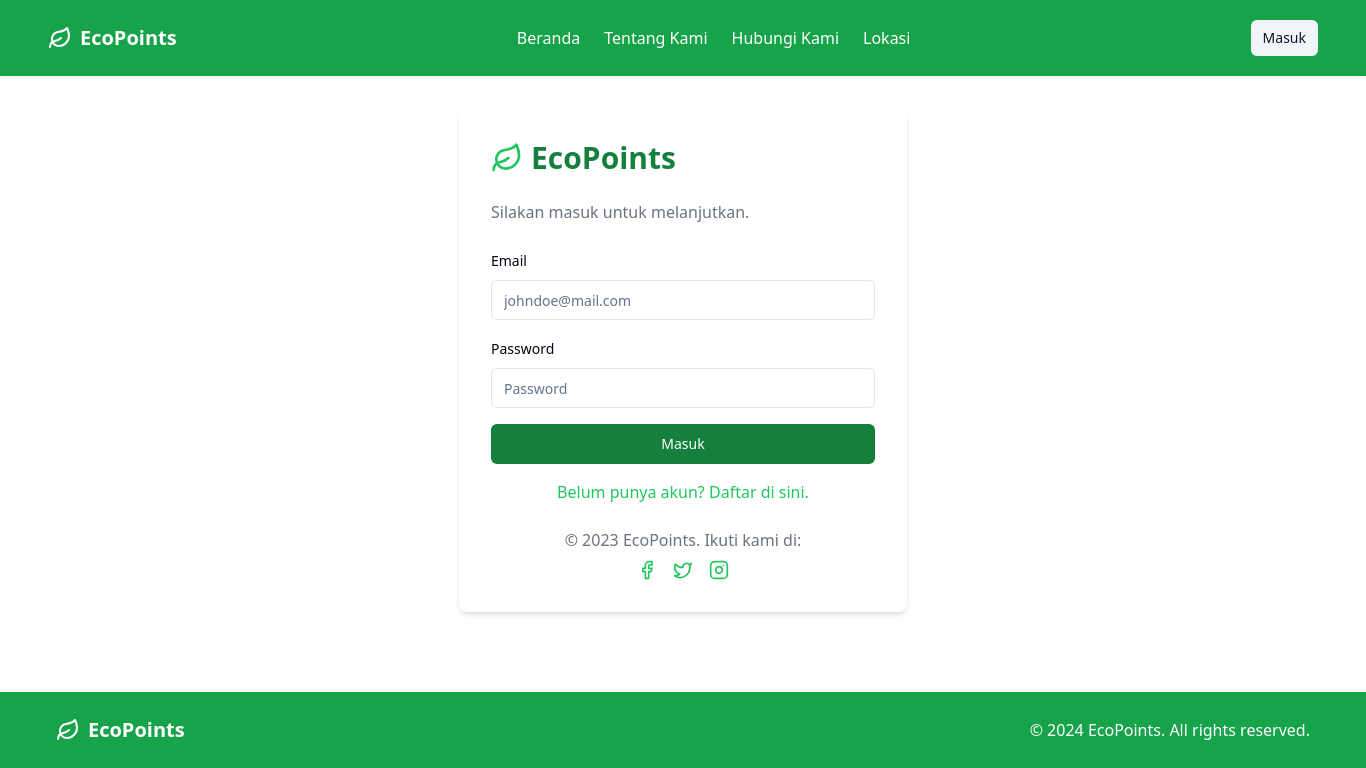
Test case: Login Page › Action for Login page › should display successful toast when using correct credentials
This screenshot has width=1366, height=768.
Type "ardi@gmail.com" into the field with test id "input-email". click: (683, 300)
box: [491, 280, 875, 320]
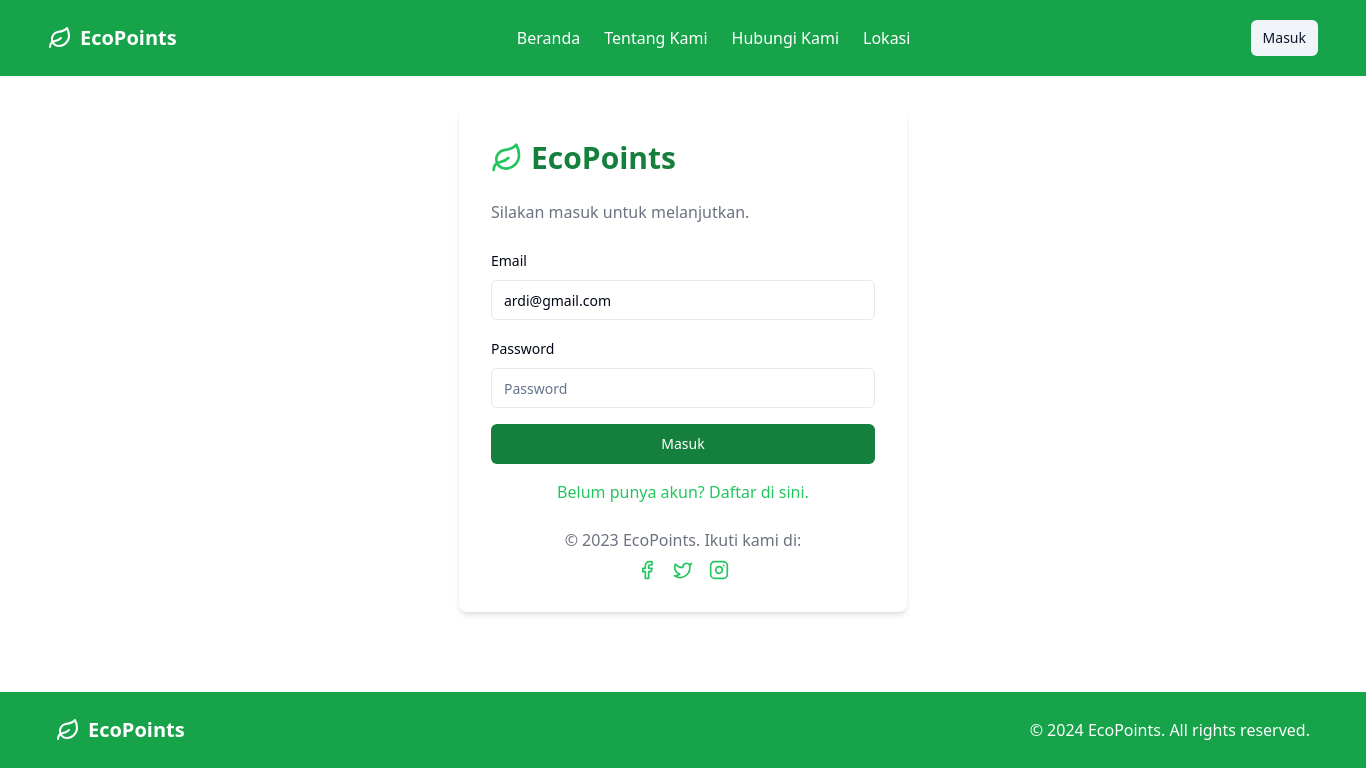
Type "aaaaaa" into the password field with test id "input-password". click: (683, 388)
box: [491, 368, 875, 408]
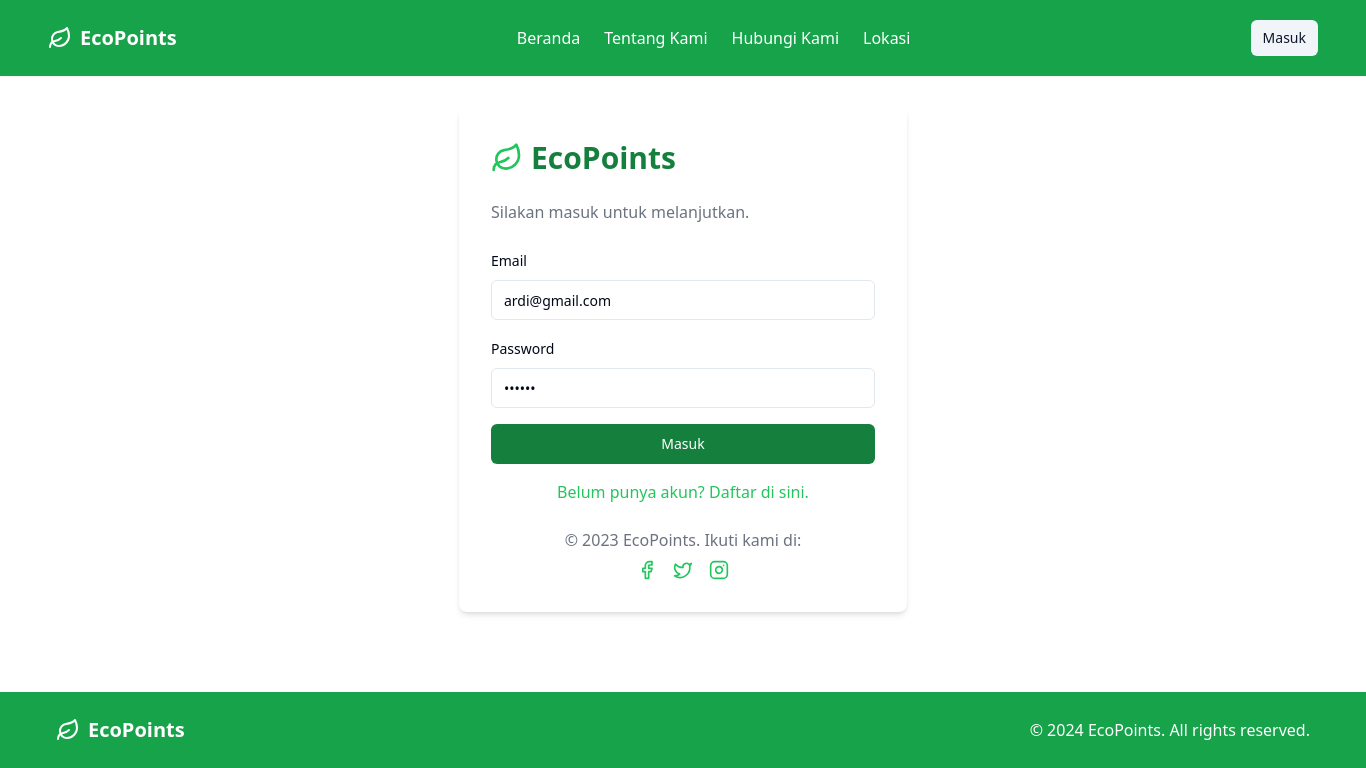
Click the button with test id "btn-submit". click: (683, 444)
box: [491, 424, 875, 464]
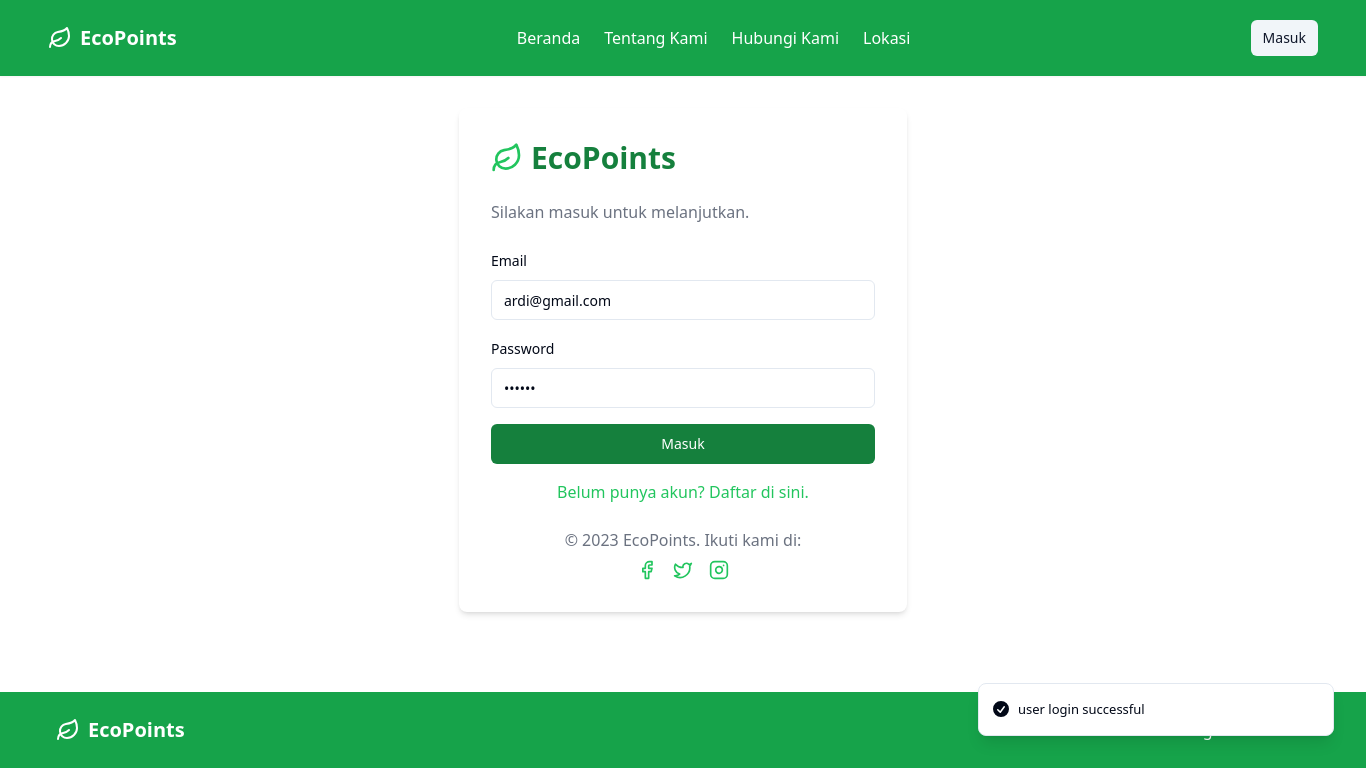
Now the text "user login successful" is shown, box [1018, 700, 1145, 719]
